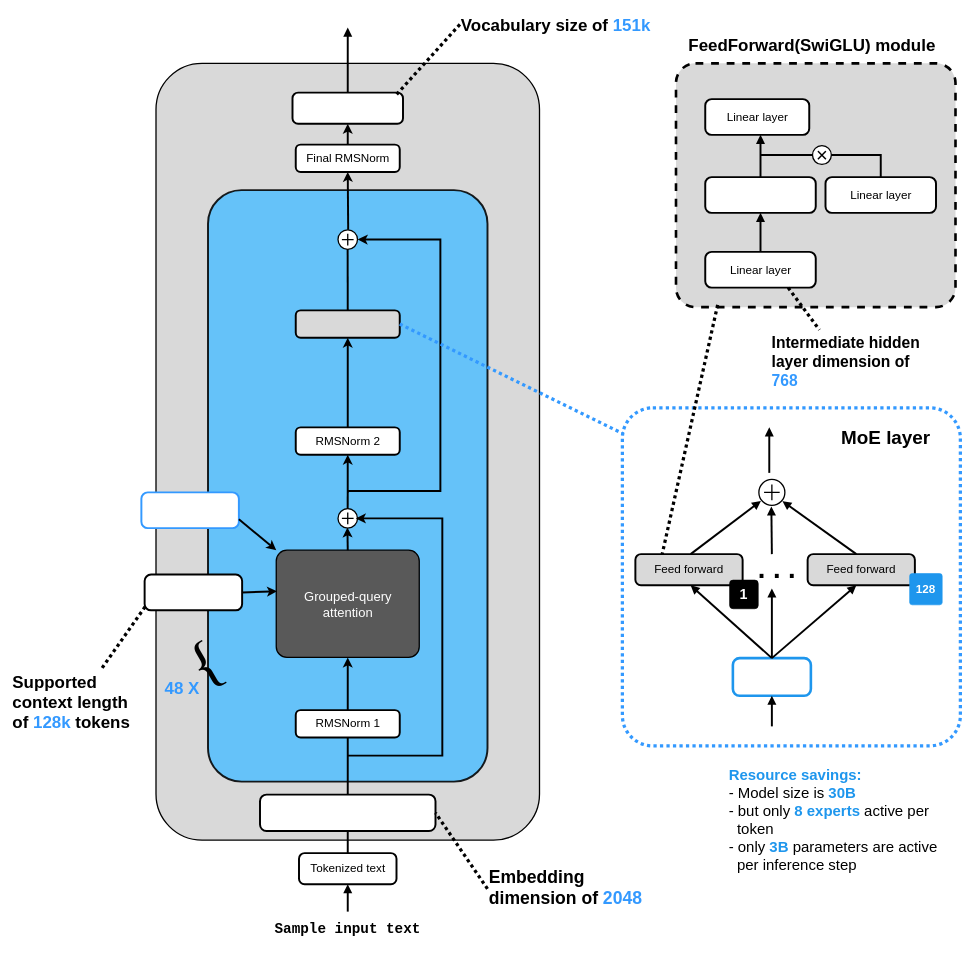
The diagram is 978 pixels wide and 955 high, and some of its shapes have lost their labels. Each missing label, with the centre of its shape:
"Linear output layer" belongs at point 347,107.
"MoE" belongs at point 347,323.
"Q/K RMSNorm" belongs at point 190,510.
"RoPE" belongs at point 193,592.
"Router" belongs at point 771,676.
"SiLU activation" belongs at point 760,195.
"Token embedding layer" belongs at point 347,812.
